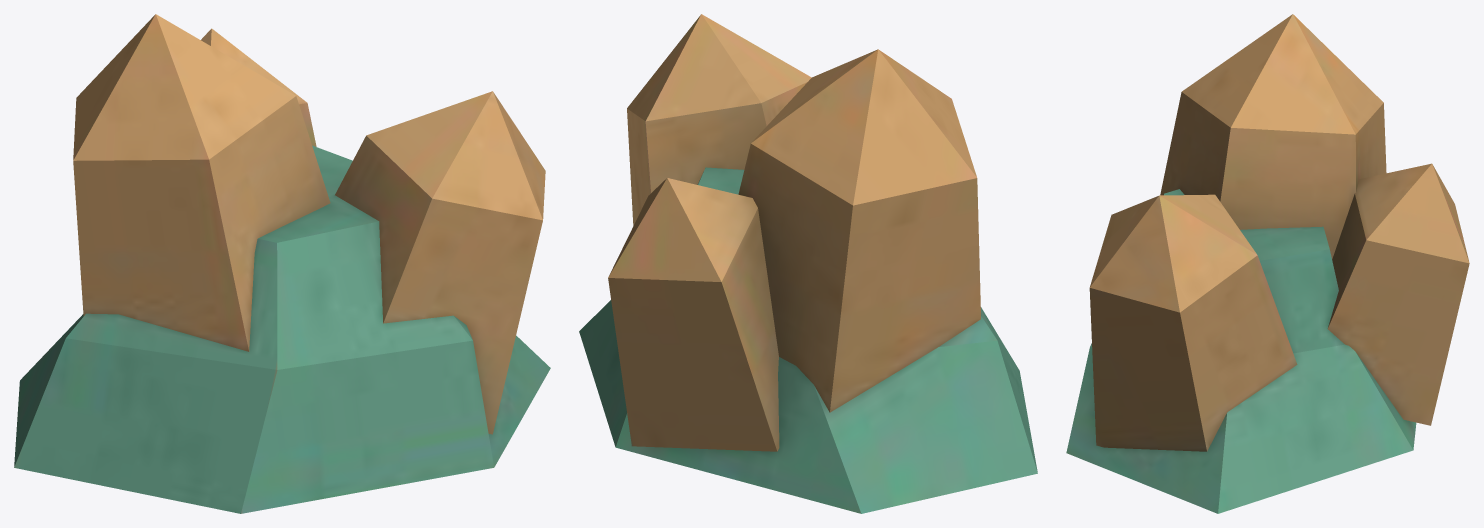
The model's file is minerio_cobre.glb.
The picture shows the model from 3 angles, left to right: view 1: azimuth 30°, elevation 25°; view 2: azimuth 150°, elevation 25°; view 3: azimuth 270°, elevation 25°; orthographic projection. The views are drawn at different scales.
Visible parts, largest first — view 1: minerio_cobre_corpo; view 2: minerio_cobre_corpo; view 3: minerio_cobre_corpo.
Part boxes in pixels (x1,y1,x2,y2): minerio_cobre_corpo: (14, 14, 550, 513); minerio_cobre_corpo: (579, 14, 1037, 513); minerio_cobre_corpo: (1066, 14, 1469, 513).
Bounding box in the file's own units: 0.22 × 0.17 × 0.1765.
1 material, 1 textured.
